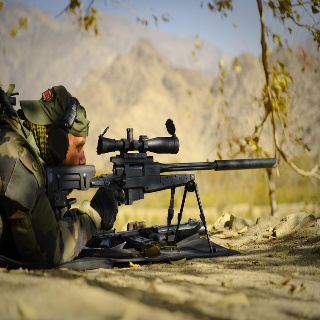rifle: (45, 126, 277, 206)
